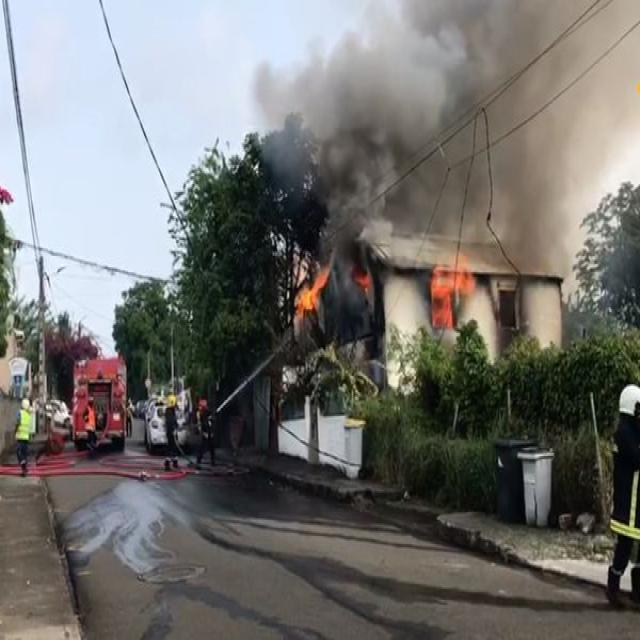Fire: (298, 290, 316, 310)
Smoke: (299, 49, 428, 144)
